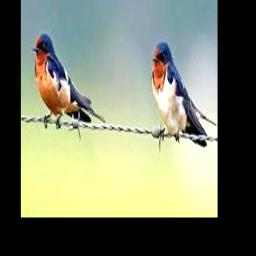Swallow: (31, 32, 105, 127), (151, 42, 216, 147)
